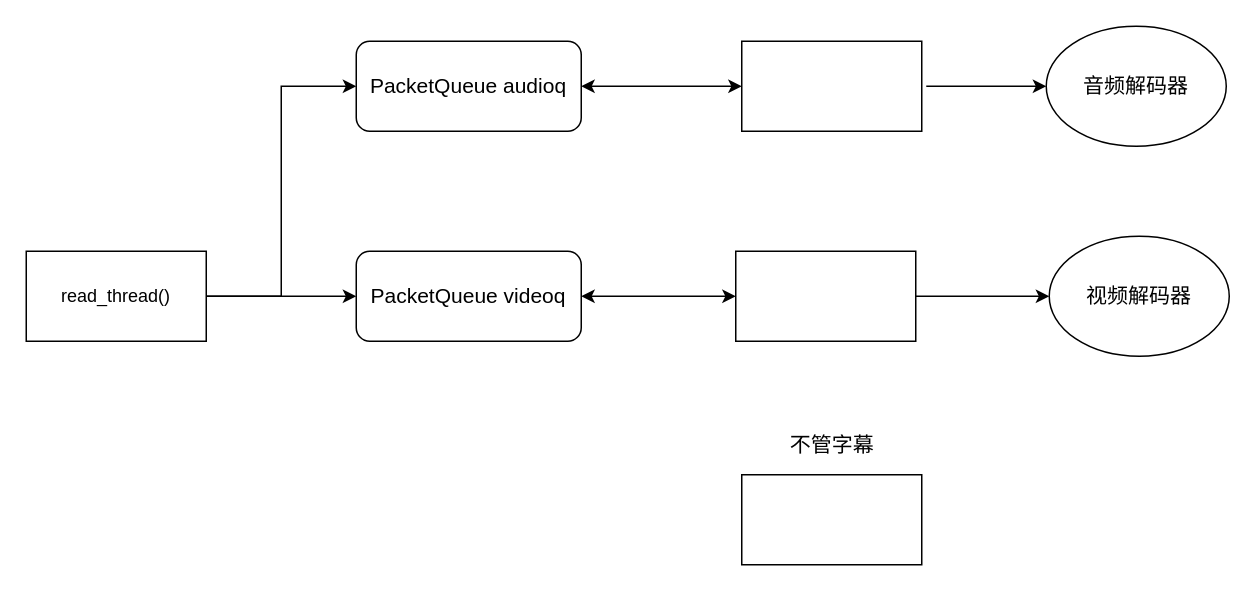
Some shapes in this 1256 by 591 pixel diagram are drawn without their labels. The shapes that lost their labels are listed below. From the top down, each one's centre as x and y in pixels, then its label:
At (x=831, y=85): "audio_thread()".
At (x=825, y=295): "video_thread()".
At (x=831, y=519): "subtitle_thread()".
